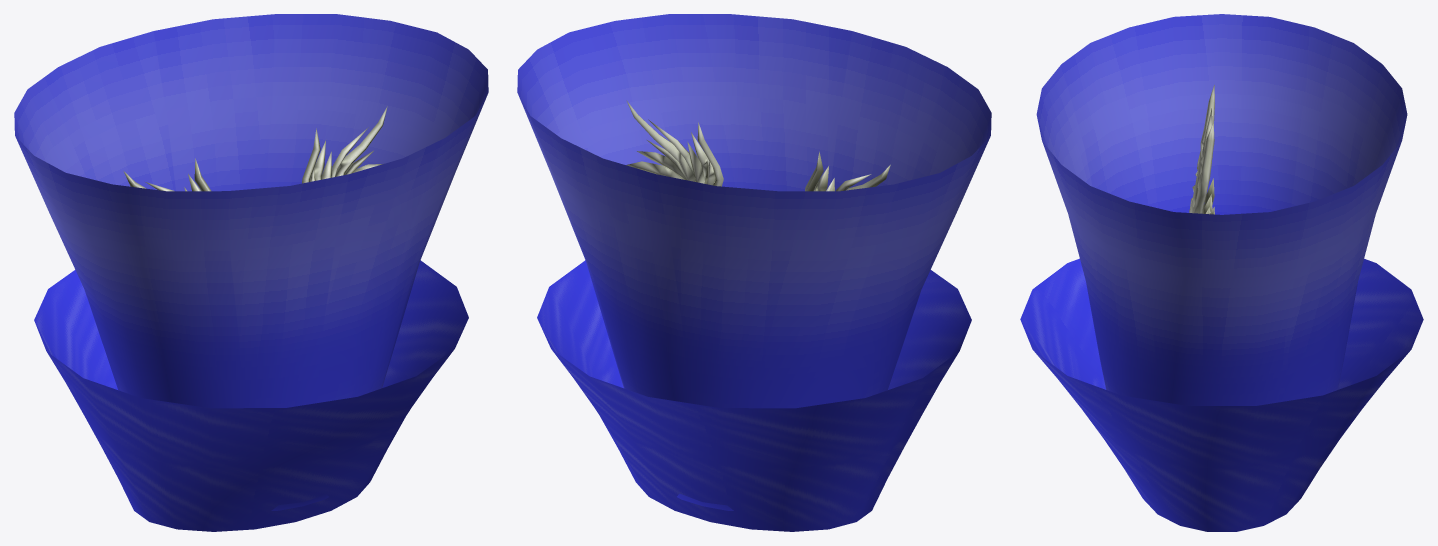
Rendered from Silver Idol.fbx.
The picture shows the model from 3 angles, left to right: view 1: azimuth 30°, elevation 25°; view 2: azimuth 150°, elevation 25°; view 3: azimuth 270°, elevation 25°; orthographic projection. The views are drawn at different scales.
Visible parts, largest first — view 1: Top Effect, Bottom Effect, Body; view 2: Top Effect, Bottom Effect, Body; view 3: Top Effect, Bottom Effect, Body.
Part boxes in pixels (x1,y1,x2,y2): Top Effect: [14, 14, 488, 510]; Bottom Effect: [34, 260, 468, 531]; Body: [123, 106, 387, 191]; Top Effect: [517, 14, 991, 510]; Bottom Effect: [537, 260, 971, 531]; Body: [626, 100, 890, 191]; Top Effect: [1036, 14, 1407, 405]; Bottom Effect: [1020, 258, 1423, 531]; Body: [1189, 85, 1214, 214].
Size of the model in its own units: 1795 by 1532 by 1522.
